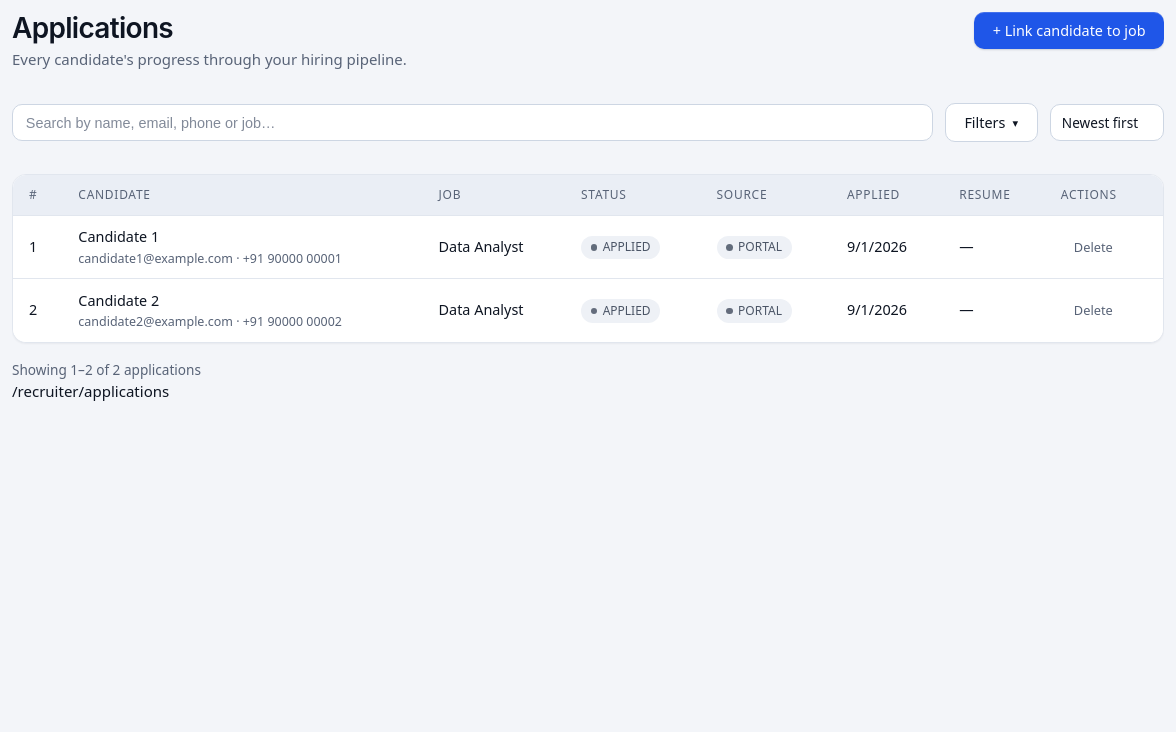
Test: ApplicationsPage — server-side search and filters › opens and closes the Filters panel
The image size is (1176, 732).
Expected: the text "Candidate 1" is shown, [78,227,159,246]
Expected: the field labelled "Candidate type" is not shown
Click the button "Filters ▾". click: coordinates (991, 123)
box: [945,103,1038,142]
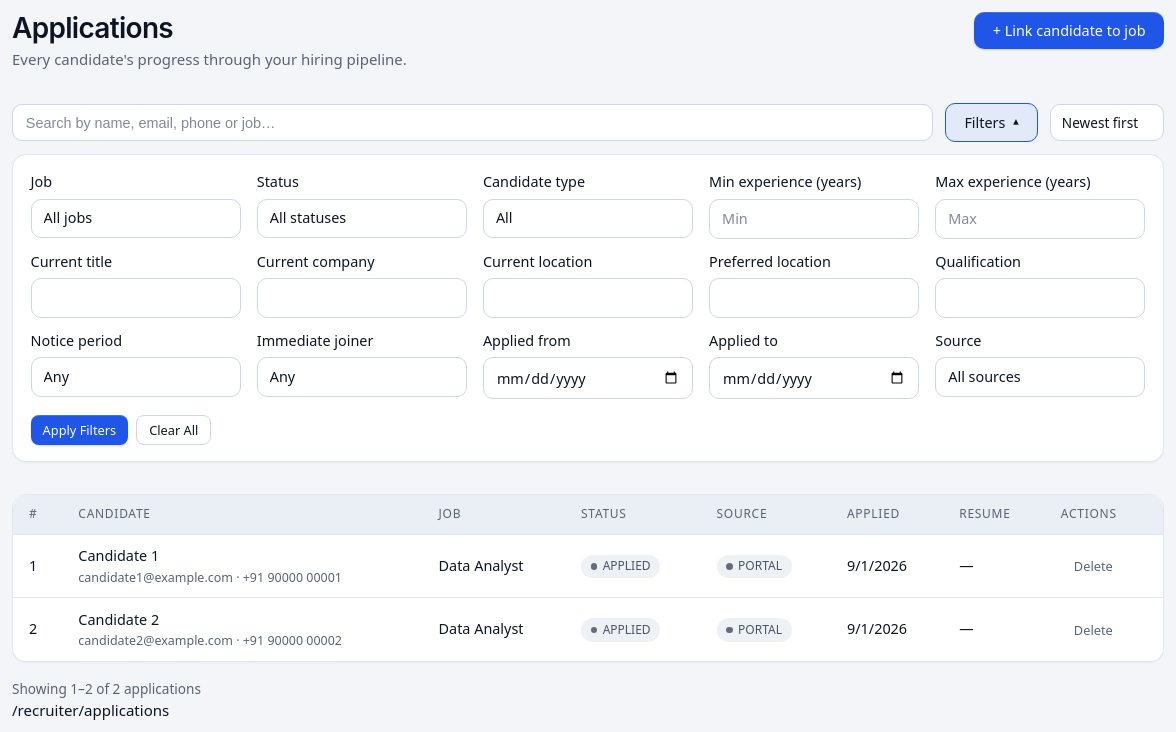
Now the button "Filters ▾" is expanded
Now the dropdown labelled "Job" is shown, box [31,198,241,238]
Now the dropdown labelled "Status" is shown, box [257,198,467,238]
Click the button "Filters ▾". click: coordinates (991, 123)
box: [945,103,1038,142]
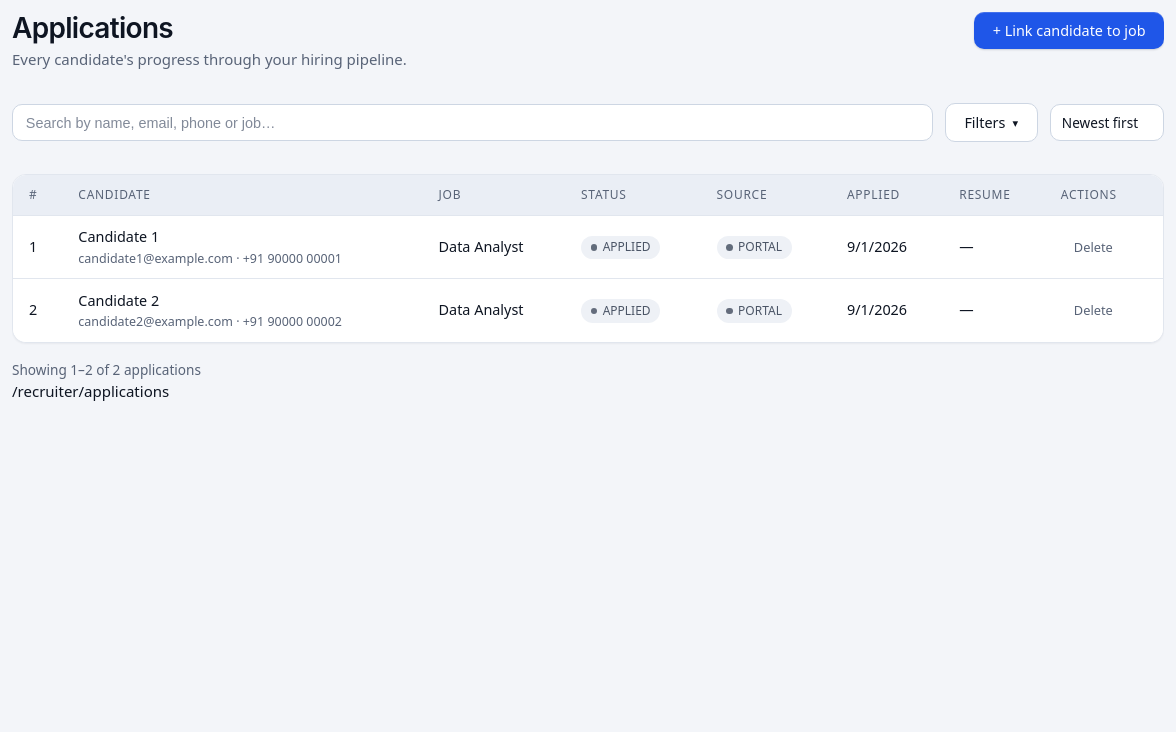
Now the text labelled "Candidate type" is gone
